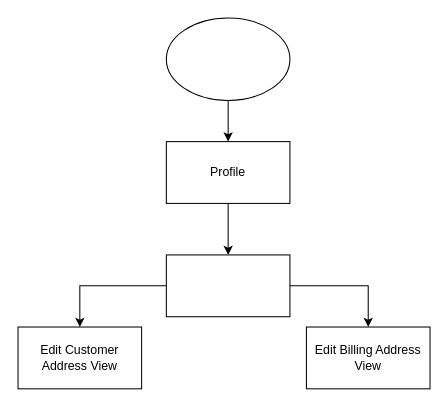
Image size: 448x407. Some labels were removed from this diagram. Here are the shapes that lost their labels. From the top down, the centre of each, then its label:
At [227,58]: "Start".
At [227,285]: "Address Page".
